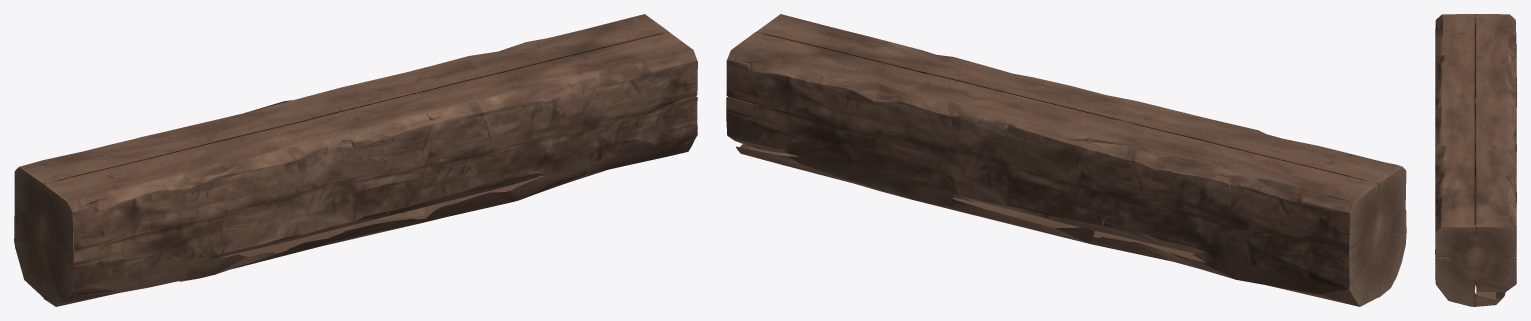
File: trave.glb
3 views of the same model, side by side, from view 1: azimuth 30°, elevation 25°; view 2: azimuth 150°, elevation 25°; view 3: azimuth 270°, elevation 25° (orthographic). The views are drawn at different scales.
Visible parts, largest first — view 1: output_unwrapped; view 2: output_unwrapped; view 3: output_unwrapped.
Boxes of the visible parts, x1,y1,x2,y2 form: output_unwrapped: [14, 14, 697, 306]; output_unwrapped: [726, 14, 1406, 306]; output_unwrapped: [1435, 14, 1516, 306].
Bounding box in the file's own units: 1.91 × 0.335 × 0.3085.
Materials: 1 (1 with a texture image).
